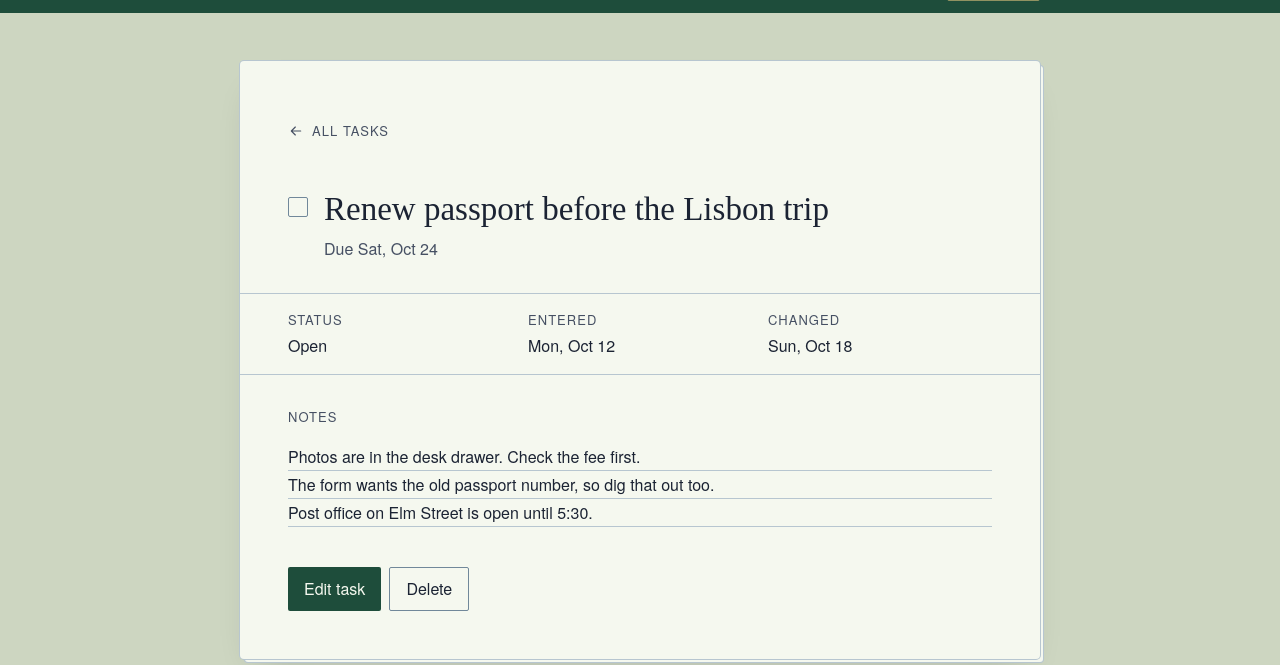
Test: TaskDetailPage › deletes optimistically and returns to the list
The width and height of the screenshot is (1280, 665).
Click the button "Delete".
click(429, 589)  # box [389,567,469,611]
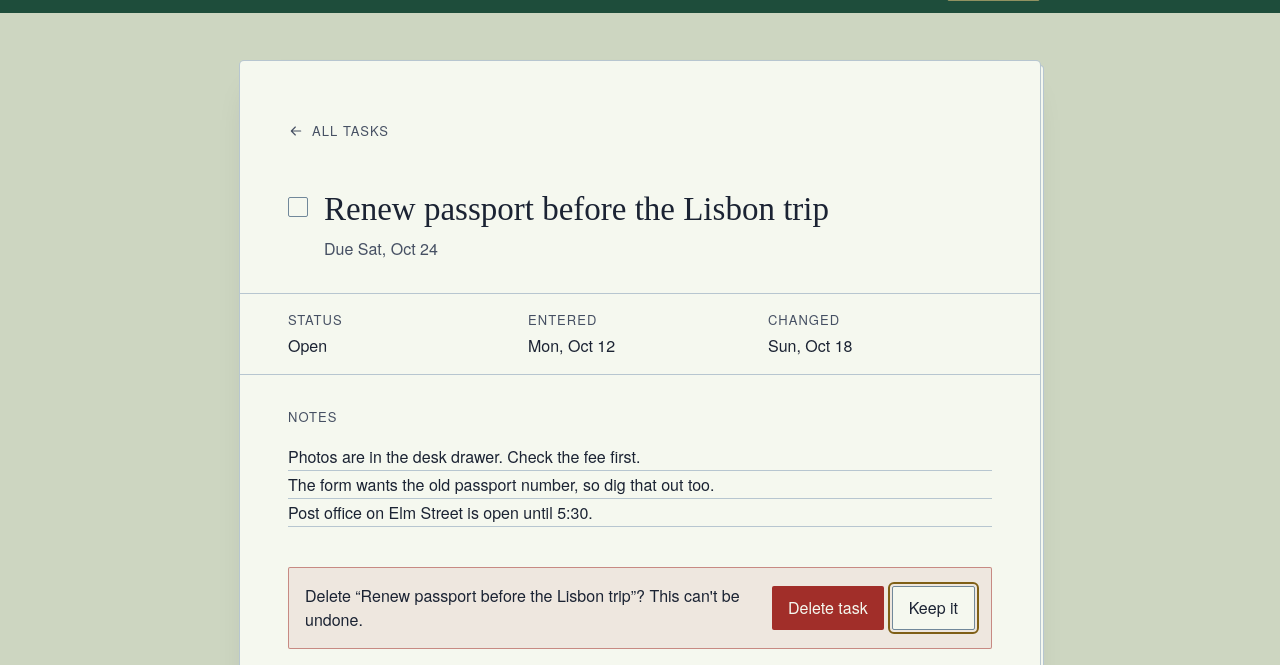
Click the button "Delete task".
click(828, 608)  # box [772,586,884,630]
(page scrolled)
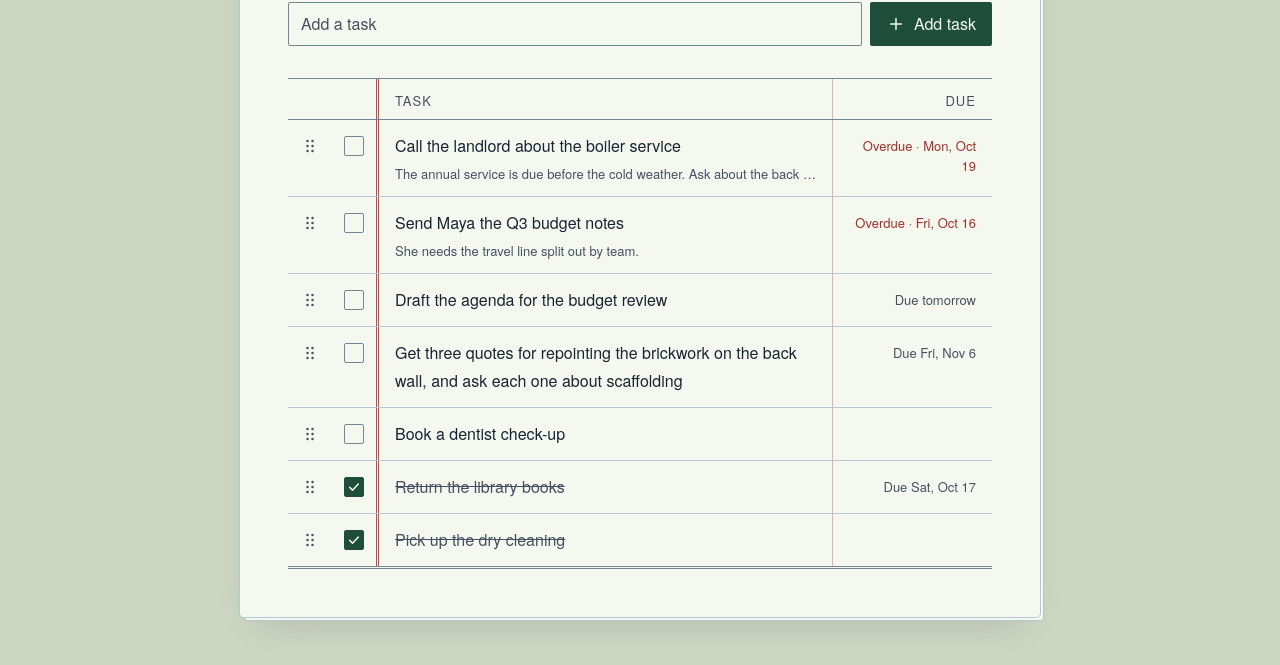
Result: the list named "Tasks" is shown at [288,120,992,566]
Result: the heading "Renew passport before the Lisbon trip" is gone
